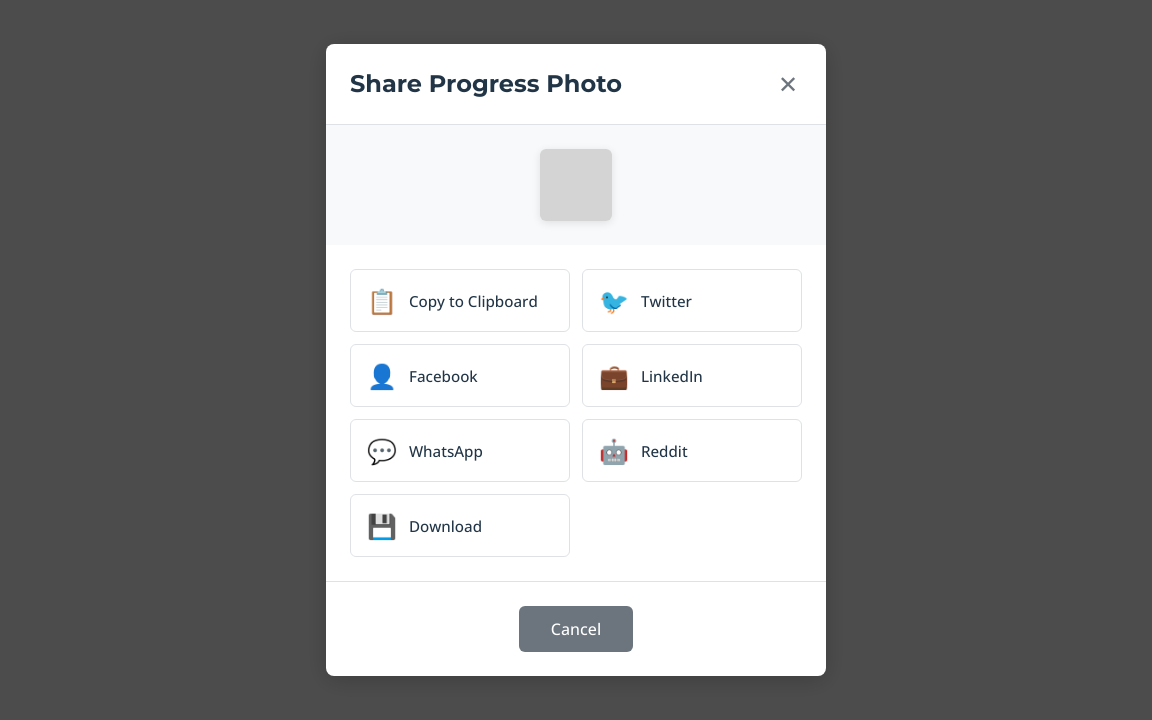
Test: ShareModal › handles copy to clipboard
Step 1. Click the button with aria-label "Copy photo to clipboard" → {"x": 460, "y": 300}, box [350,269,570,332]
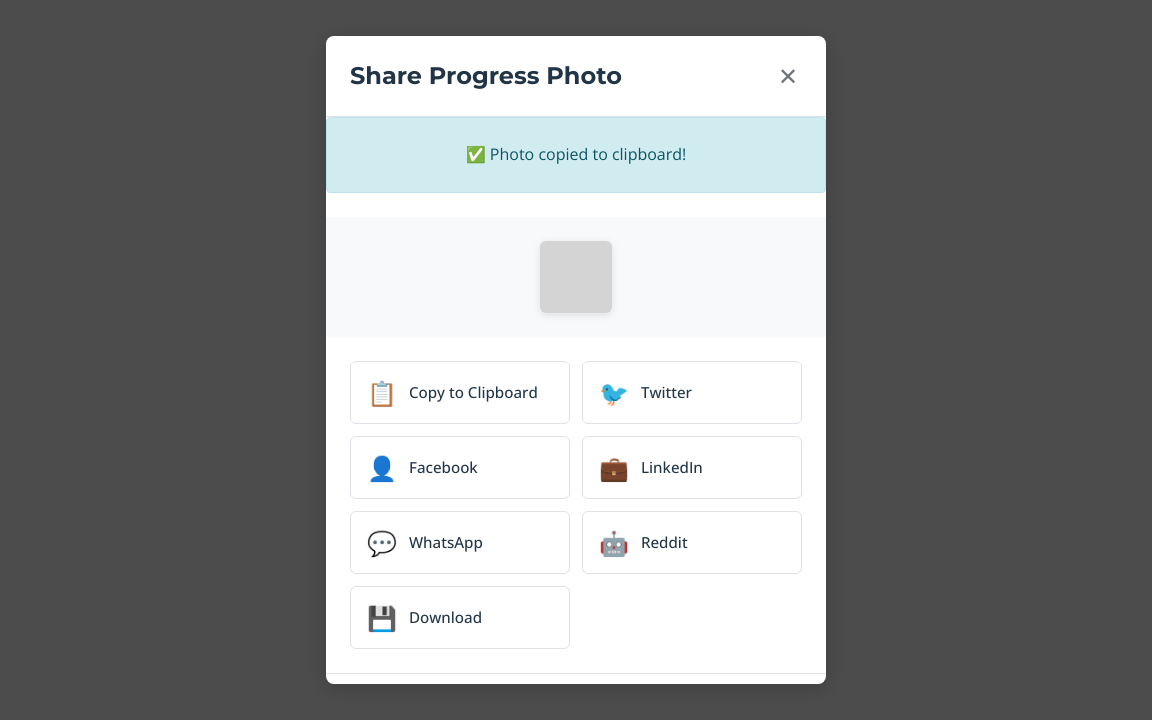
Expected: the text "Photo copied to clipboard!" is shown, [490,143,686,165]
